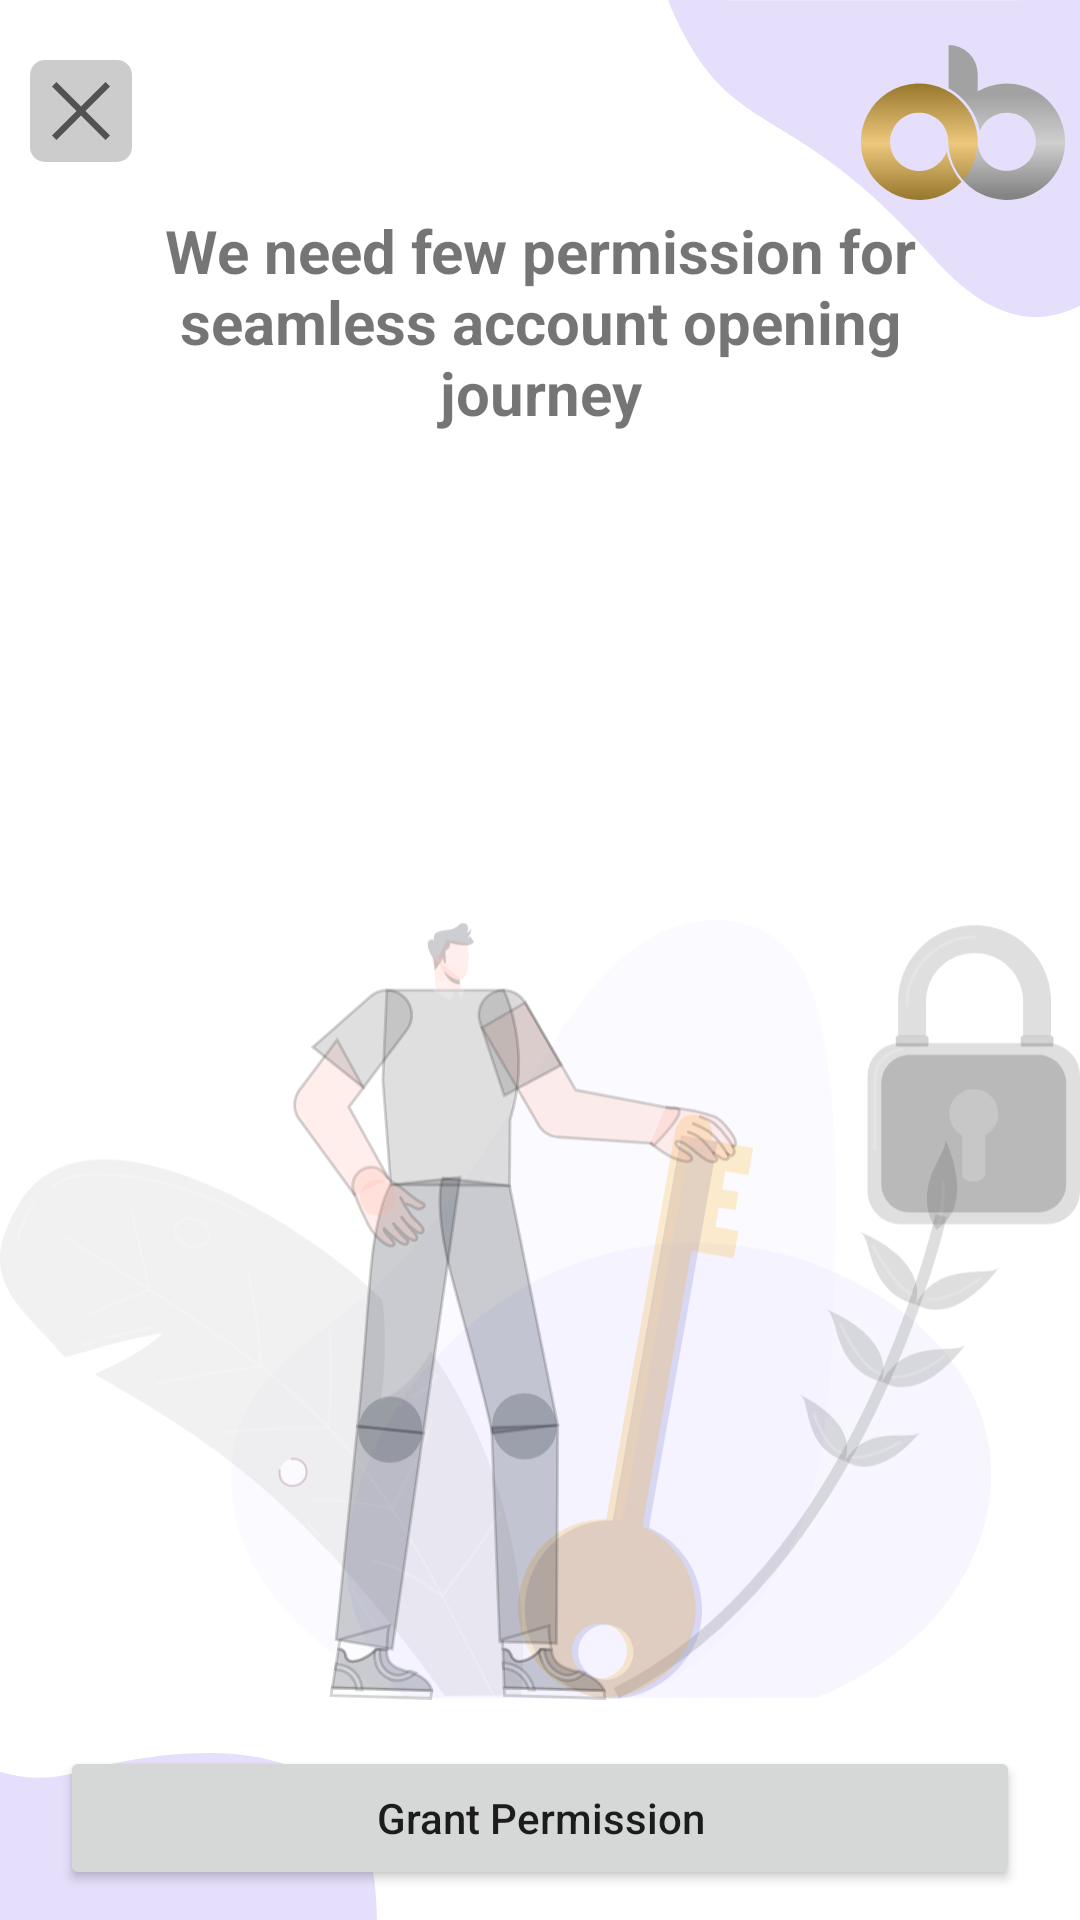

Point at icon controls on the screen. Image size 1080 x 1920, points as (x=x, y=y).
close open: (x=81, y=111)
